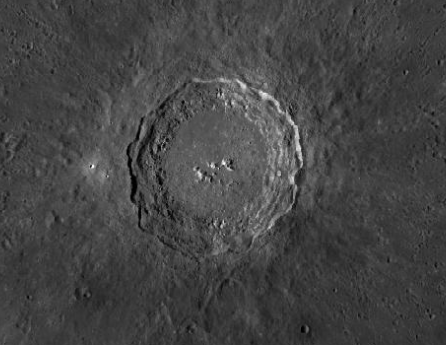crater: (58, 41, 387, 292)
